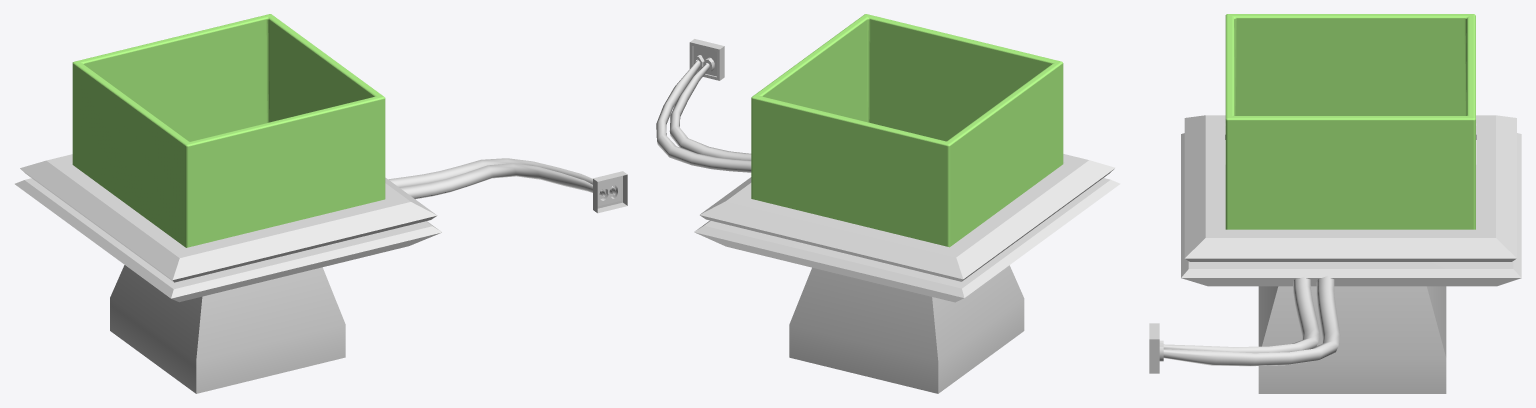
The model's file is TeleporteurMirror.fbx.
3 views of the same model, side by side, from view 1: azimuth 30°, elevation 25°; view 2: azimuth 150°, elevation 25°; view 3: azimuth 270°, elevation 25° (orthographic). The views are drawn at different scales.
Parts seen in each view (by area): view 1: VerreTeleporte, BaseTeleporteur, FilTeleporteurUn, PriseMurTeleporteur; view 2: VerreTeleporte, BaseTeleporteur, FilTeleporteurUn, PriseMurTeleporteur; view 3: VerreTeleporte, BaseTeleporteur, FilTeleporteurUn, PriseMurTeleporteur.
Part boxes in pixels (bbox=[...]): VerreTeleporte: bbox=[72, 14, 385, 247]; BaseTeleporteur: bbox=[15, 154, 441, 393]; FilTeleporteurUn: bbox=[388, 158, 615, 199]; PriseMurTeleporteur: bbox=[593, 171, 627, 213]; VerreTeleporte: bbox=[751, 14, 1063, 247]; BaseTeleporteur: bbox=[694, 154, 1120, 393]; FilTeleporteurUn: bbox=[656, 60, 751, 172]; PriseMurTeleporteur: bbox=[689, 39, 724, 80]; VerreTeleporte: bbox=[1225, 14, 1475, 229]; BaseTeleporteur: bbox=[1181, 115, 1521, 393]; FilTeleporteurUn: bbox=[1163, 275, 1340, 366]; PriseMurTeleporteur: bbox=[1149, 323, 1163, 373].
Bounding box in the file's own units: 251 × 144 × 168.
